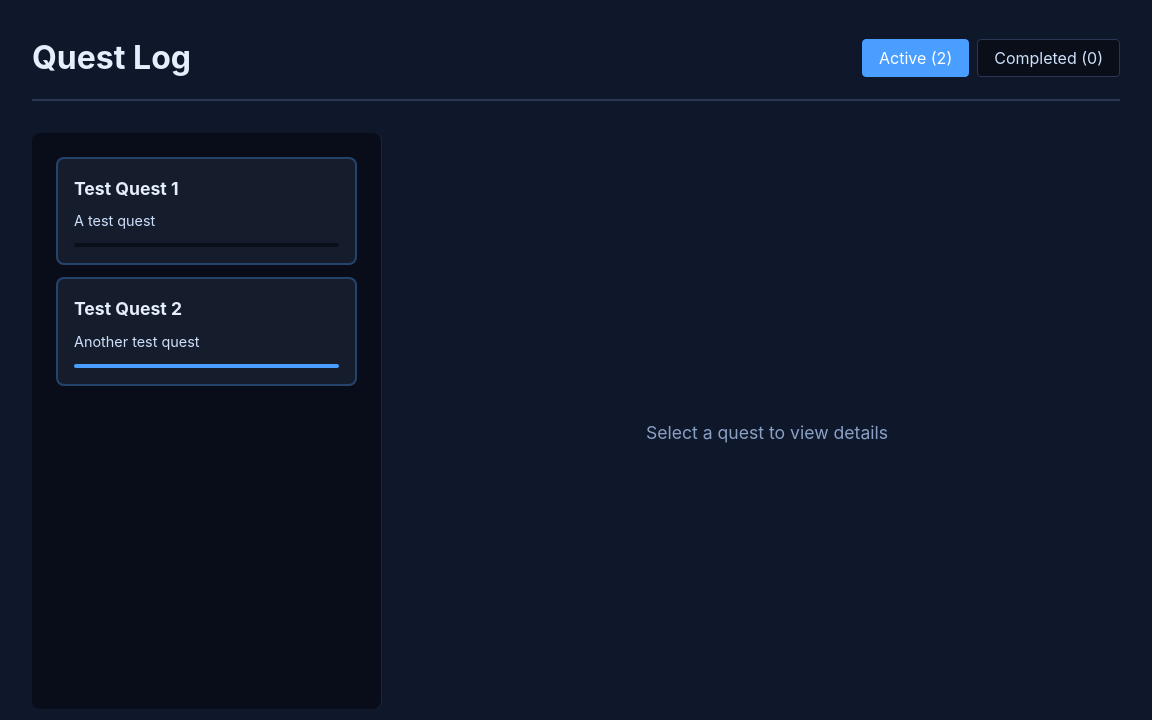
QuestLog › shows quest objectives after a quest is selected
Click the heading "Test Quest 1": (126, 189) [74,175,178,203]
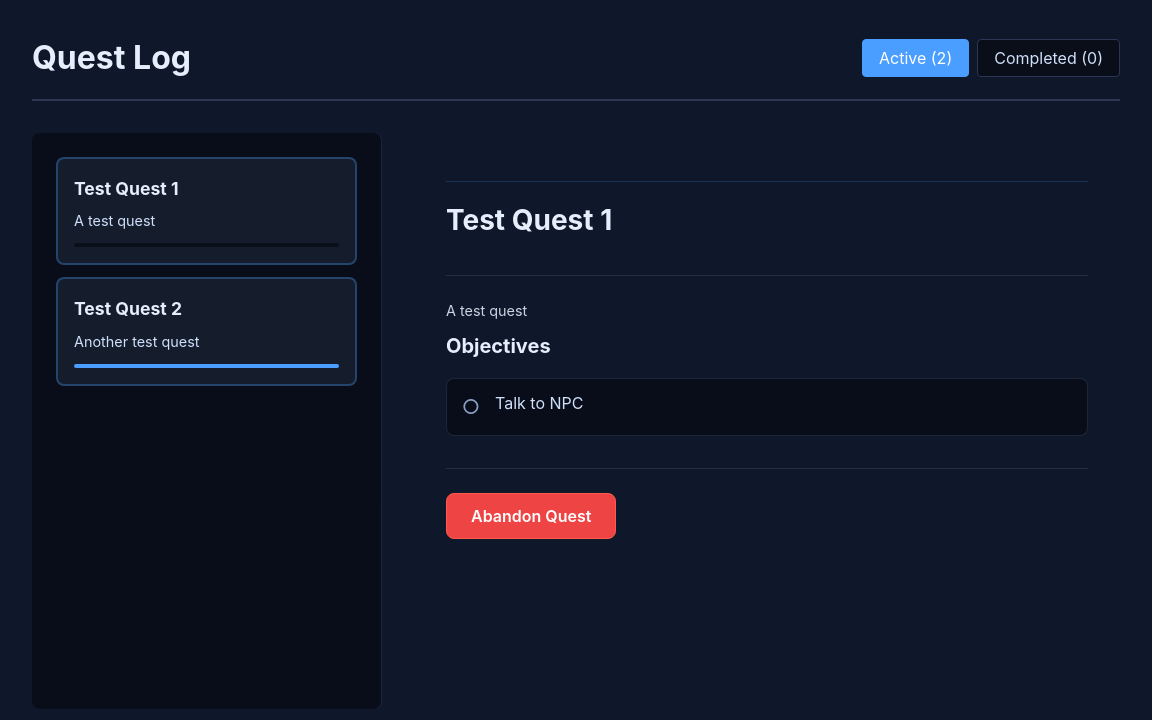
Expected: the text "Talk to NPC" is shown, [495,393,583,413]
